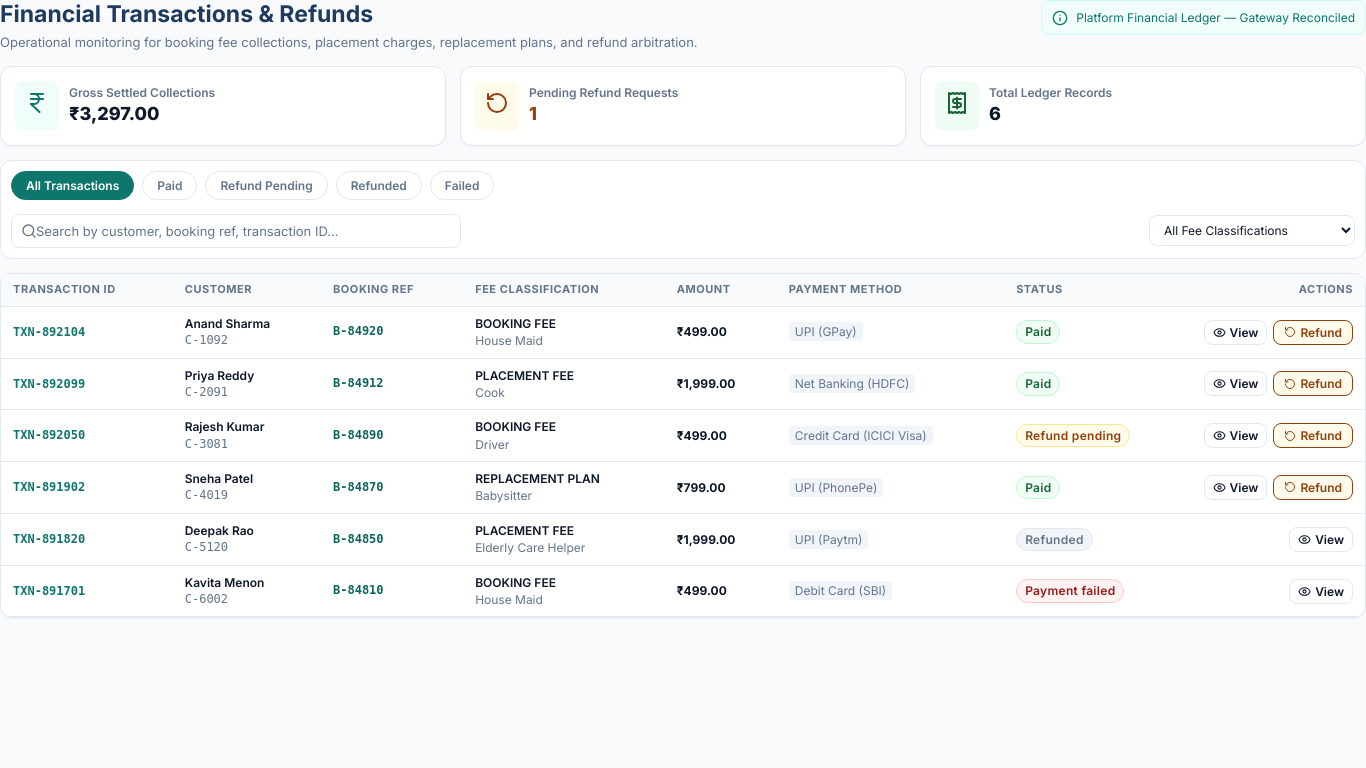
Operations Admin Role — End-to-End Workflow & Boundary Suite › 5. Payments, Fees & Refund Authorizations › allows Operations Admin to view ledger and open refund authorization modal with policy check
Expected: the heading "Financial Transactions & Refunds" is shown, [0,0,373,28]
Expected: the text "TXN-892050" is shown, [13,428,85,442]
Click the button "Refund" in the row of "TXN-892104": (1313, 332) [1273,320,1353,345]
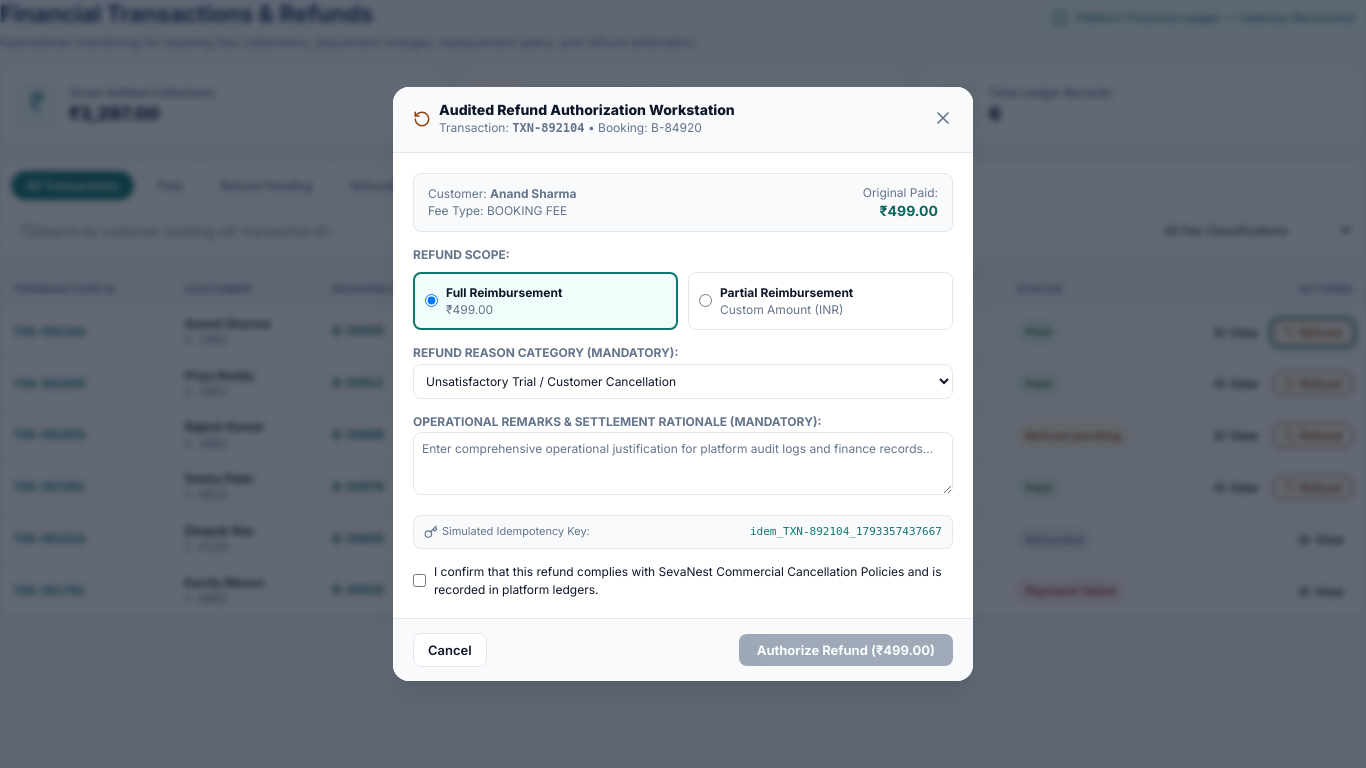
Expected: the heading "Audited Refund Authorization Workstation" is shown, [439,101,735,119]
Expected: the text "Commercial Cancellation Policies" is shown, [434,564,942,597]
Expected: the button "Authorize Refund (₹499.00)" is disabled, [739,634,953,666]
Note: Enter remarks and confirm checkbox
In the text box with placeholder "Enter comprehensive operational justification": (683, 464) [413,432,953,495], type "Approved trial refund per customer dissatisfaction report."
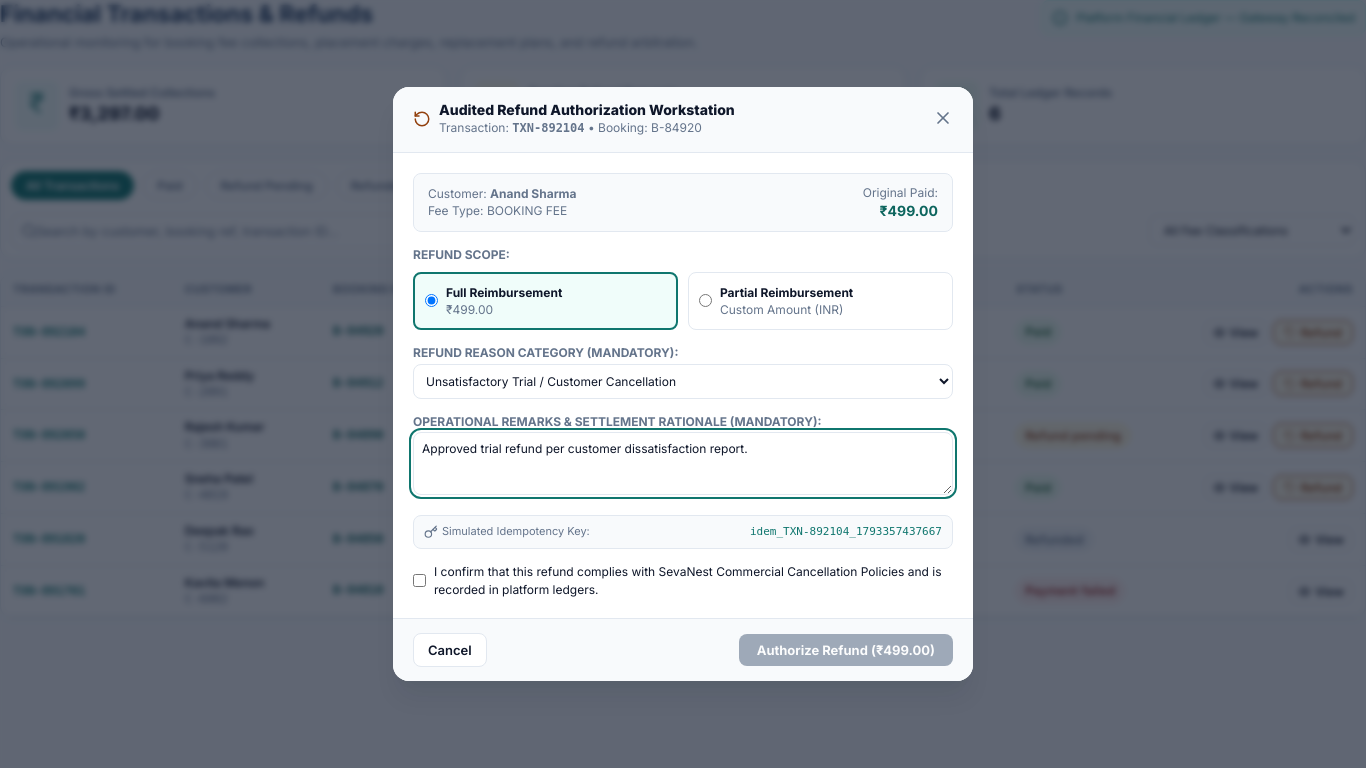
Click the checkbox: (420, 581) [413,574,426,587]
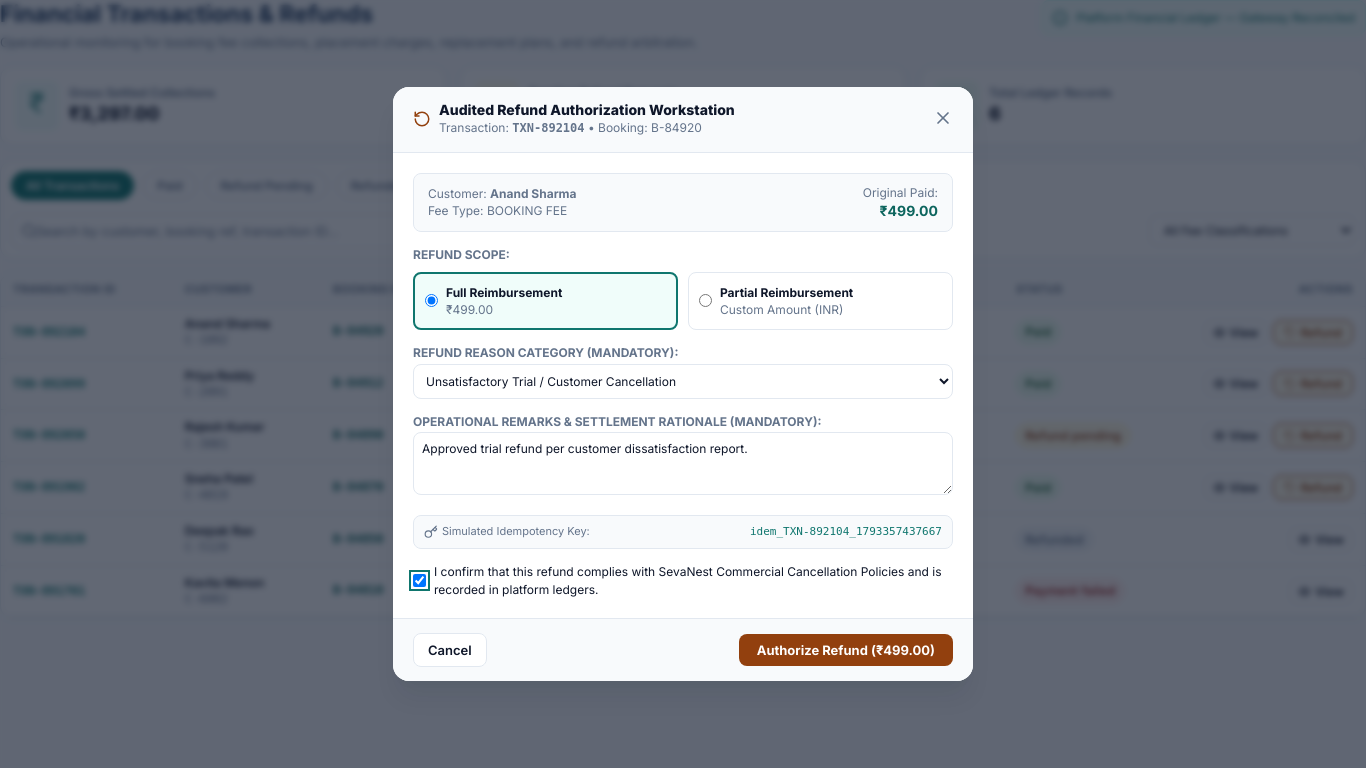
Expected: the button "Authorize Refund (₹499.00)" is enabled, [739,634,953,666]
